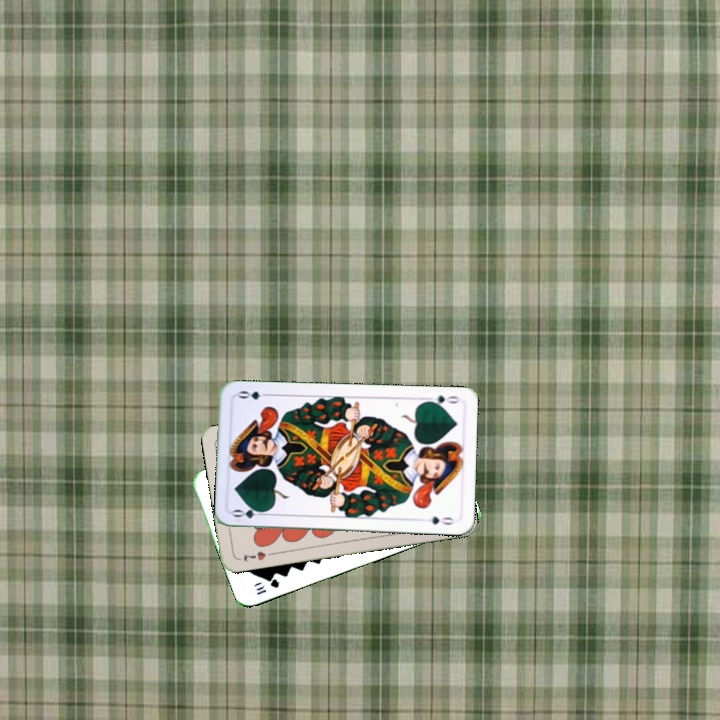G10: (253, 575, 282, 598)
GO: (421, 391, 462, 409), (229, 505, 270, 521)
H7: (239, 547, 268, 564)
